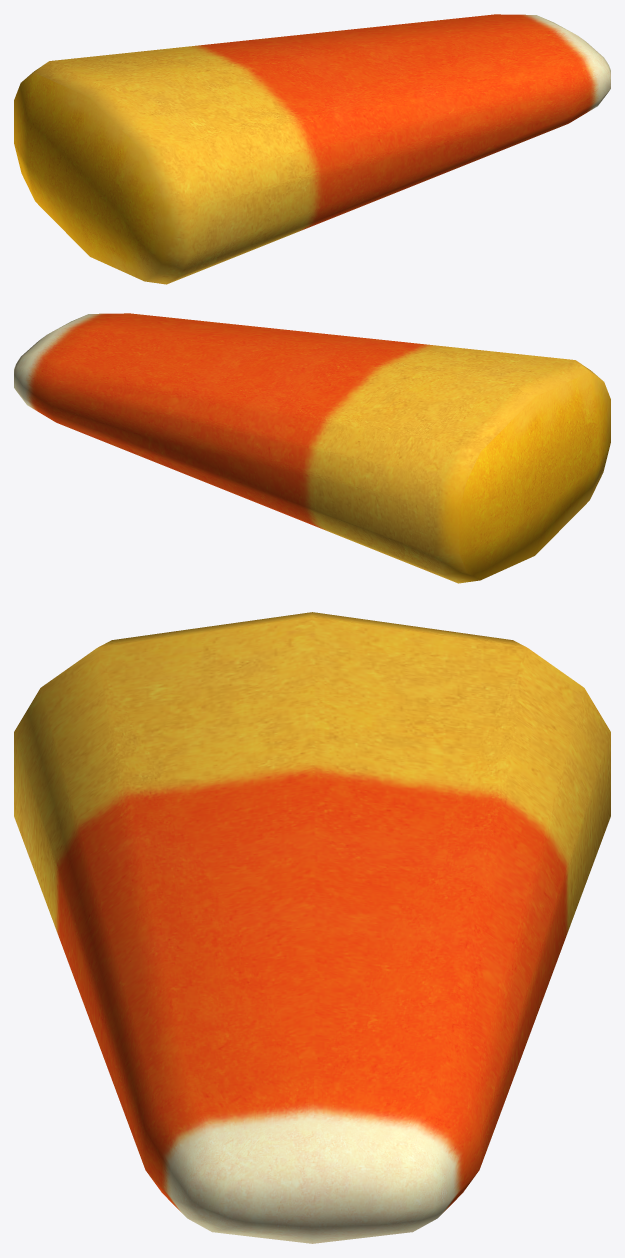
The model's file is CHP_MOD_Candy_corn.fbx.
3 renders of one model, top to bottom at view 1: azimuth 30°, elevation 25°; view 2: azimuth 150°, elevation 25°; view 3: azimuth 270°, elevation 25°, orthographic. The views are drawn at different scales.
Visible parts, largest first — view 1: CHP_MOD_Candy_corn; view 2: CHP_MOD_Candy_corn; view 3: CHP_MOD_Candy_corn.
Part boxes in pixels (x1,y1,x2,y2): CHP_MOD_Candy_corn: [14, 14, 610, 284]; CHP_MOD_Candy_corn: [14, 313, 610, 583]; CHP_MOD_Candy_corn: [14, 612, 610, 1243].
Bounding box in the file's own units: 0.6317 × 0.1999 × 0.3457.
